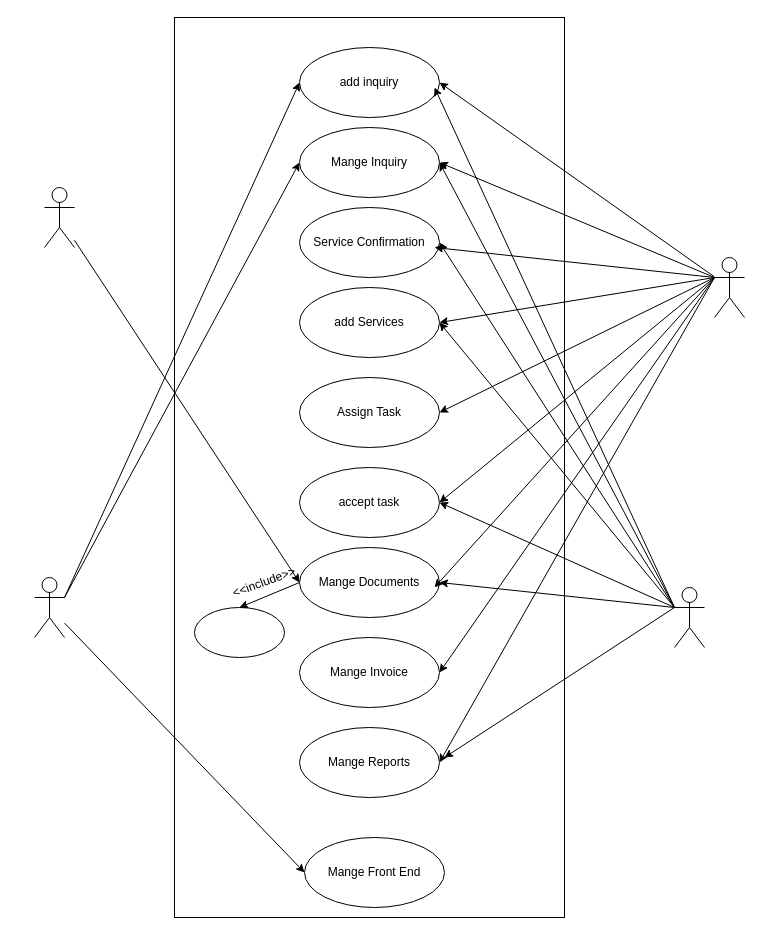
Image size: 763x935. Some labels were removed from this diagram. The centre of each missing label's shape, as x and y in pixels:
admin: point 729,287
customer: point 59,217
Employee: point 689,617
Register: point 239,632
superAdmin: point 49,607
